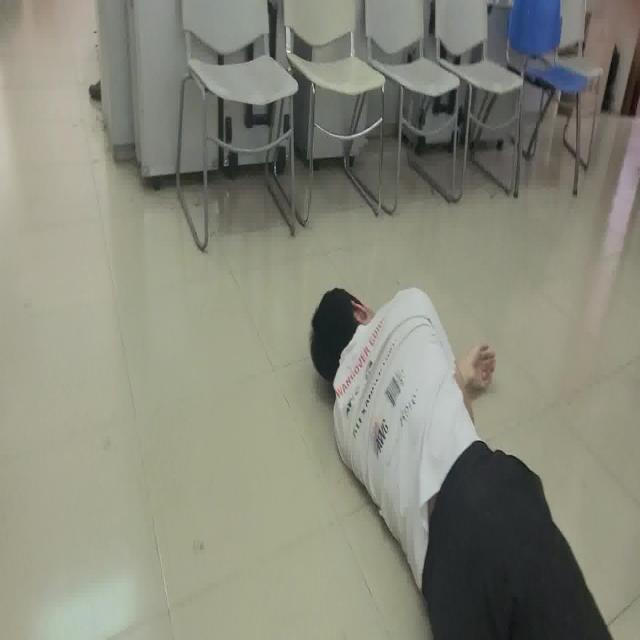Fall-Detected: (305, 271, 621, 640)
